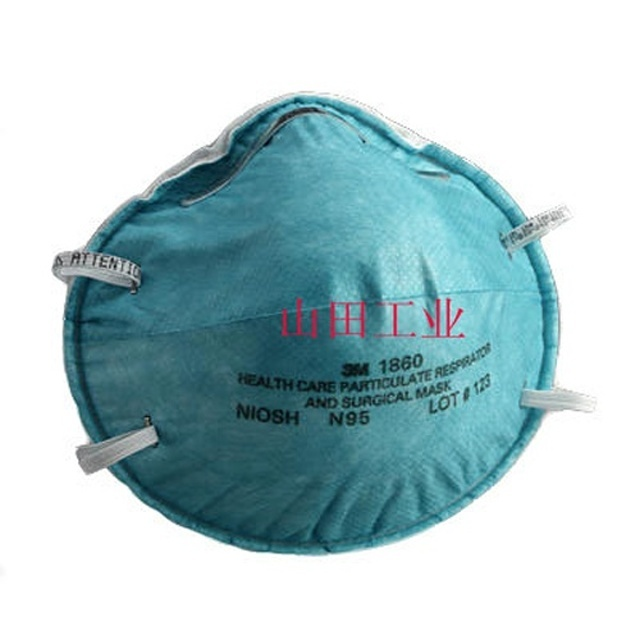mask: (48, 84, 589, 560)
